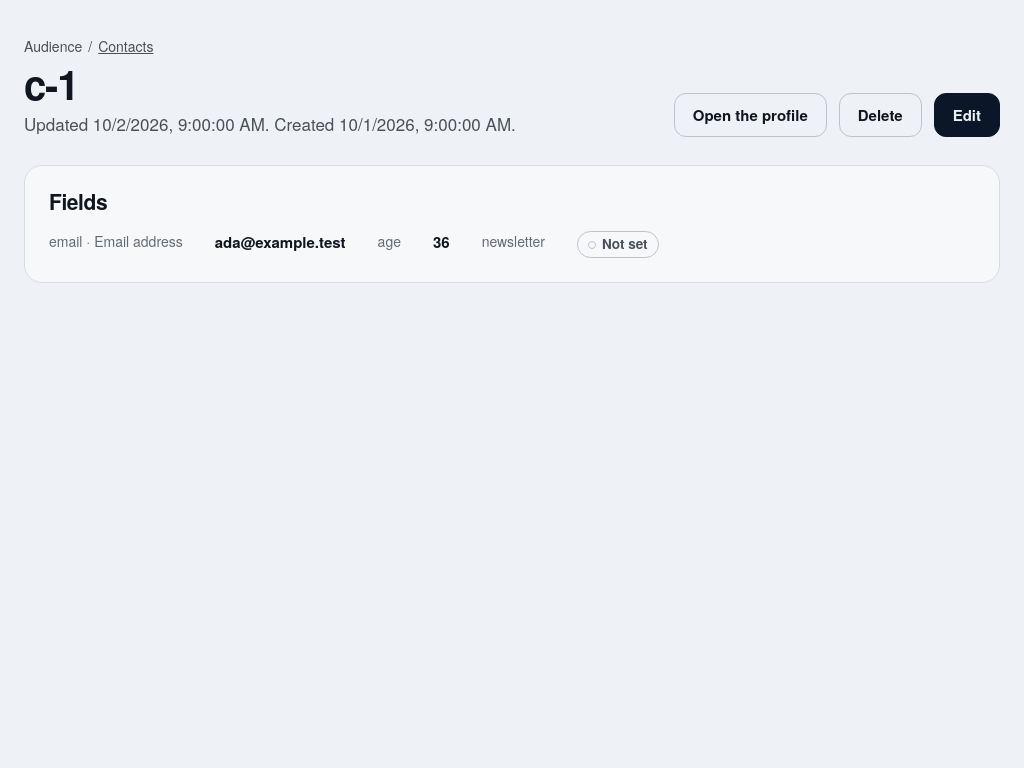
it: contact › edits with a patch of only what changed, and removes a cleared field
Click the button "Edit" at {"x": 967, "y": 115}, box [934,93,1000,137]
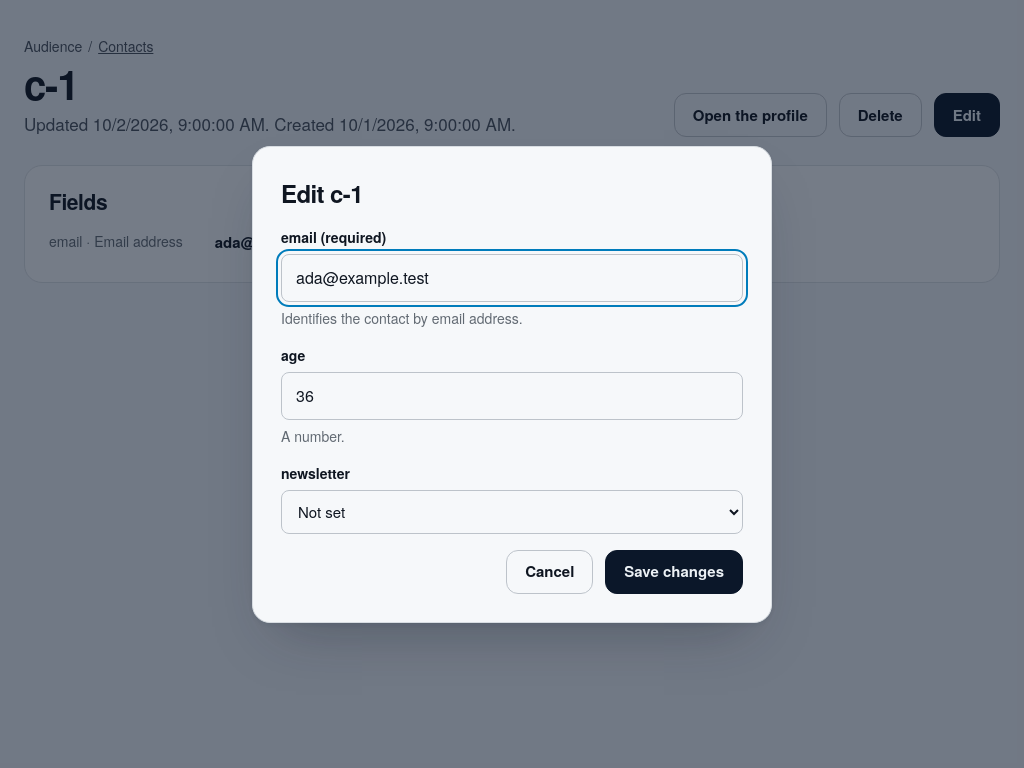
Now the field labelled "age" holds "36"
Replace the text in the field labelled "age" with "37" at {"x": 512, "y": 396}, box [281,372,743,420]
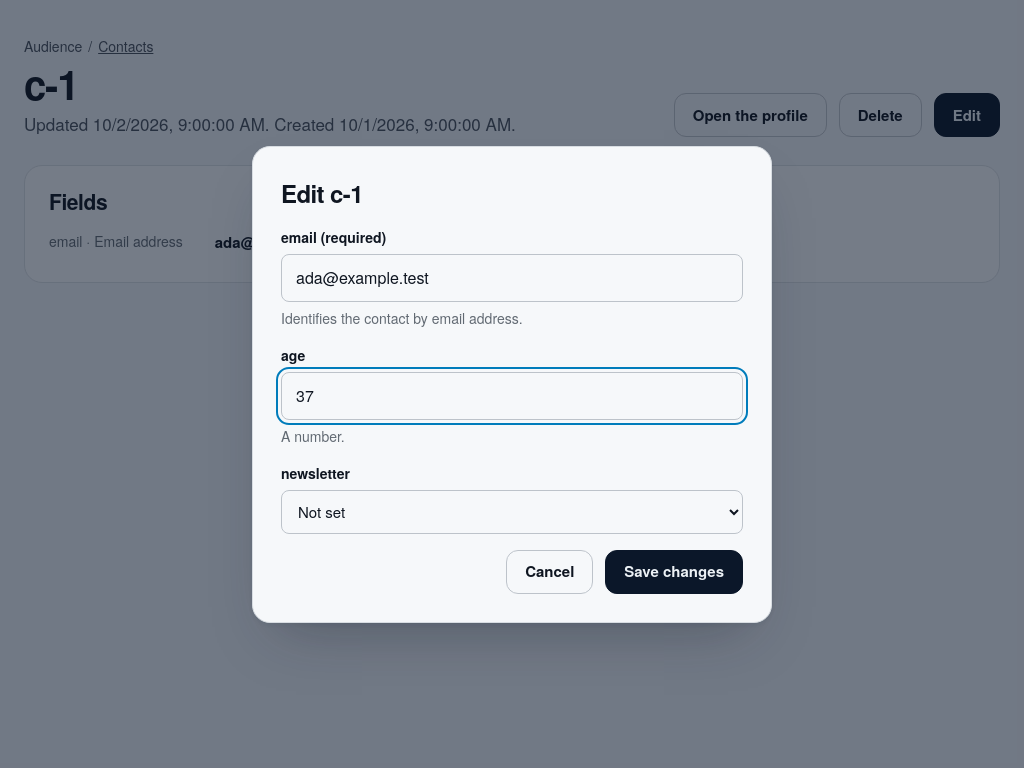
Click the button "Save changes" at {"x": 674, "y": 572}, box [605,550,743,594]
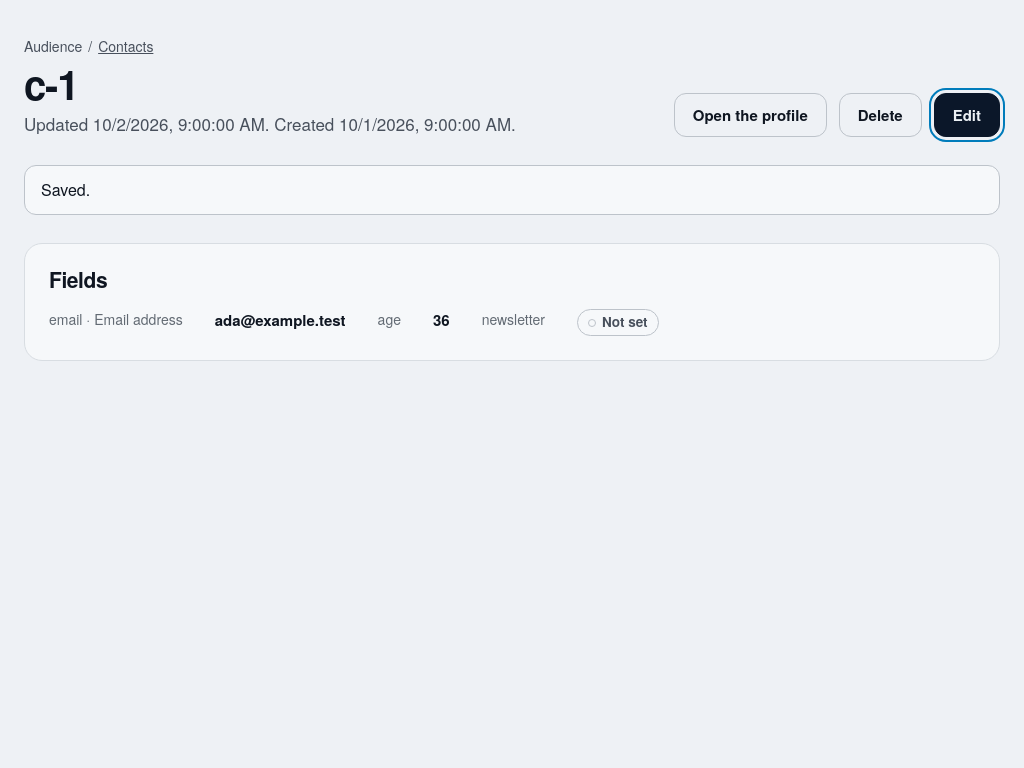
Now the text "Saved." is shown, box [24,165,1000,215]
